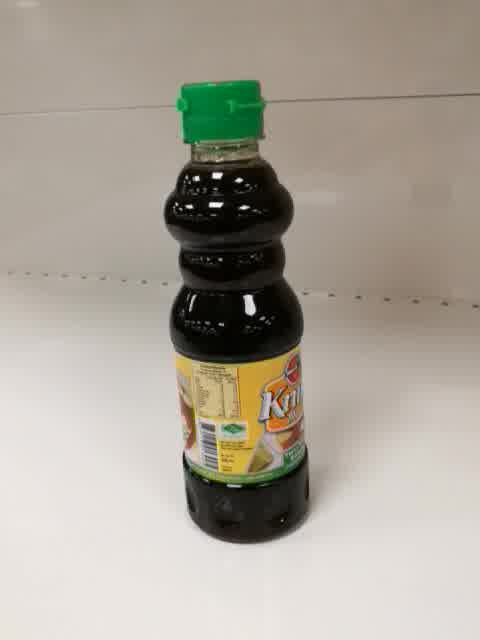cookingoil: (158, 76, 312, 546)
